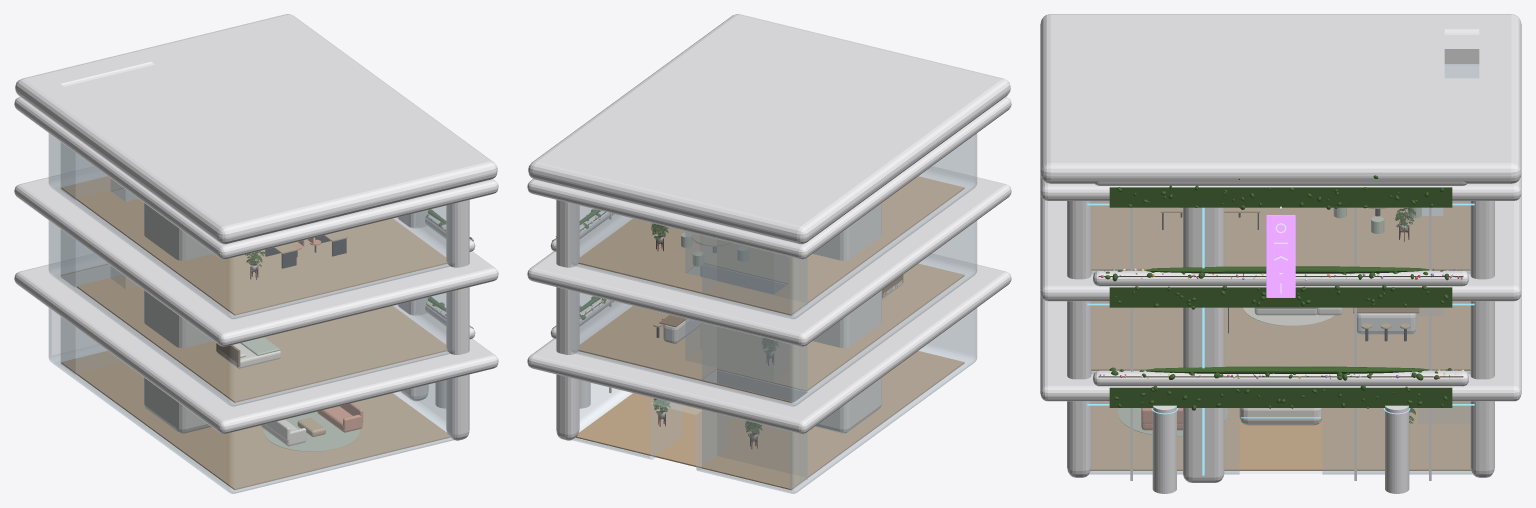
Rendered from building.glb.
The picture shows the model from 3 angles, left to right: view 1: azimuth 30°, elevation 25°; view 2: azimuth 150°, elevation 25°; view 3: azimuth 270°, elevation 25°; orthographic projection. The views are drawn at different scales.
Parts seen in each view (by area): view 1: BatG2_parapet.001, BatG2_vitre1.001, BatG2_vitre2.001, BatG2_vitre0.001, BatG2_dalle0.001, BatG2_dalle1.001, BatG2_f2_sol.001, BatG2_f1_sol.001, BatG2_f0_sol.001, BatG2_dalle2.001, BatG2_core.001, BatG2_pilier.002 (+3 smaller); view 2: BatG2_parapet.001, BatG2_vitre1.001, BatG2_vitre2.001, BatG2_vitre0.001, BatG2_dalle0.001, BatG2_dalle1.001, BatG2_f0_sol.001, BatG2_f2_sol.001, BatG2_f1_sol.001, BatG2_dalle2.001, BatG2_core.001, BatG2_pilier.003 (+1 smaller); view 3: BatG2_parapet.001, BatG2_vitre1.001, BatG2_vitre2.001, BatG2_f2_sol.001, BatG2_f1_sol.001, BatG2_f0_sol.001, BatG2_vitre0.001, BatG2_pilierC.001, BatG2_dalle0.001, BatG2_dalle1.001, BatG2_vigne2.001, BatG2_vigne0.001 (+26 smaller).
Boxes of the visible parts, x1=… form: BatG2_parapet.001: x1=15, y1=14, x2=497, y2=244; BatG2_vitre1.001: x1=48, y1=221, x2=454, y2=406; BatG2_vitre2.001: x1=48, y1=133, x2=454, y2=319; BatG2_vitre0.001: x1=48, y1=308, x2=455, y2=493; BatG2_dalle0.001: x1=14, y1=254, x2=498, y2=433; BatG2_dalle1.001: x1=14, y1=166, x2=498, y2=346; BatG2_f2_sol.001: x1=61, y1=176, x2=447, y2=315; BatG2_f1_sol.001: x1=61, y1=264, x2=447, y2=402; BatG2_f0_sol.001: x1=61, y1=351, x2=450, y2=489; BatG2_dalle2.001: x1=14, y1=97, x2=498, y2=259; BatG2_core.001: x1=144, y1=203, x2=213, y2=433; BatG2_pilier.002: x1=446, y1=155, x2=469, y2=440; BatG2_parapet.001: x1=528, y1=14, x2=1010, y2=244; BatG2_vitre1.001: x1=571, y1=221, x2=977, y2=406; BatG2_vitre2.001: x1=571, y1=133, x2=977, y2=319; BatG2_vitre0.001: x1=570, y1=308, x2=977, y2=493; BatG2_dalle0.001: x1=527, y1=253, x2=1011, y2=433; BatG2_dalle1.001: x1=527, y1=166, x2=1011, y2=346; BatG2_f0_sol.001: x1=575, y1=351, x2=964, y2=489; BatG2_f2_sol.001: x1=578, y1=176, x2=964, y2=315; BatG2_f1_sol.001: x1=578, y1=263, x2=964, y2=402; BatG2_dalle2.001: x1=527, y1=97, x2=1011, y2=259; BatG2_core.001: x1=812, y1=203, x2=881, y2=433; BatG2_pilier.003: x1=556, y1=155, x2=579, y2=440; BatG2_parapet.001: x1=1040, y1=14, x2=1521, y2=183; BatG2_vitre1.001: x1=1091, y1=208, x2=1470, y2=374; BatG2_vitre2.001: x1=1091, y1=64, x2=1479, y2=274; BatG2_f2_sol.001: x1=1091, y1=201, x2=1470, y2=270; BatG2_f1_sol.001: x1=1091, y1=301, x2=1470, y2=370; BatG2_f0_sol.001: x1=1090, y1=401, x2=1471, y2=470; BatG2_vitre0.001: x1=1089, y1=401, x2=1472, y2=474; BatG2_pilierC.001: x1=1183, y1=156, x2=1224, y2=482; BatG2_dalle0.001: x1=1040, y1=294, x2=1521, y2=401; BatG2_dalle1.001: x1=1040, y1=194, x2=1521, y2=301; BatG2_vigne2.001: x1=1109, y1=187, x2=1452, y2=207; BatG2_vigne0.001: x1=1109, y1=387, x2=1452, y2=407.
Size of the model in its own units: 13.84 by 12.9 by 17.4.
32 materials, 3 textured.
